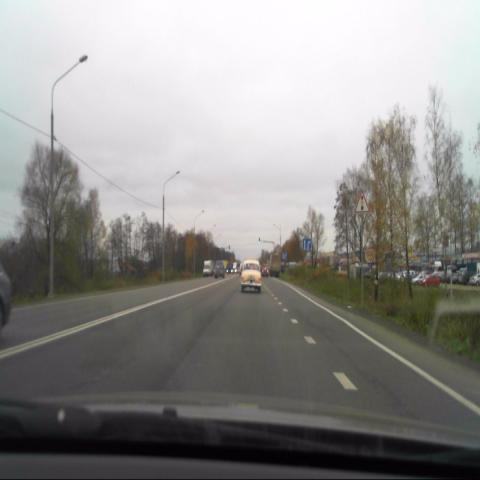1_8: (354, 191, 370, 214)
